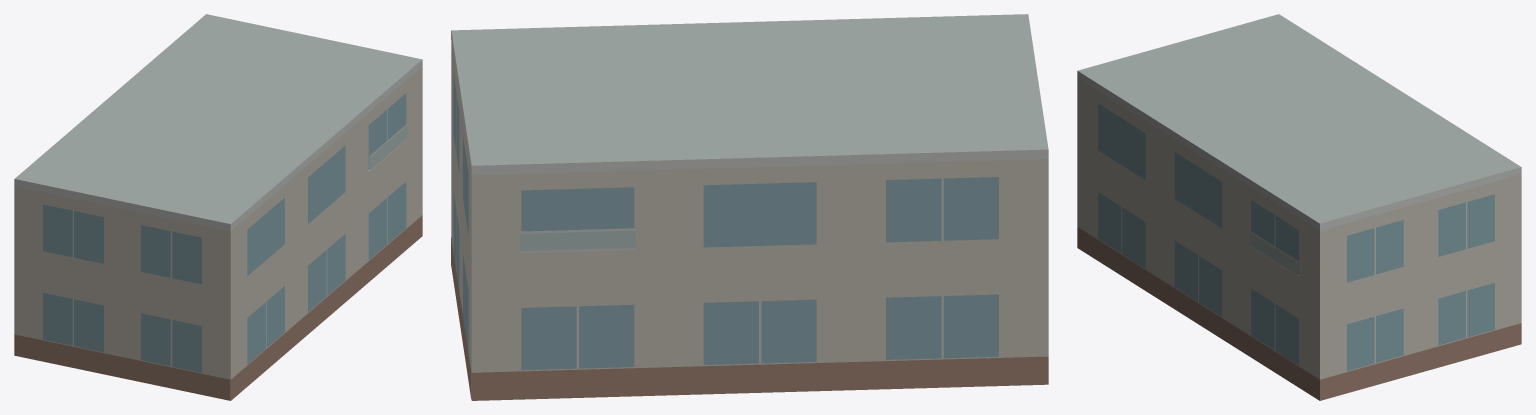
The model's file is survey-upis-32624056.glb.
3 renders of one model, left to right at view 1: azimuth 30°, elevation 25°; view 2: azimuth 150°, elevation 25°; view 3: azimuth 270°, elevation 25°, orthographic. The views are drawn at different scales.
Parts seen in each view (by area): view 1: survey-upis-32624056.tmp; view 2: survey-upis-32624056.tmp; view 3: survey-upis-32624056.tmp.
Boxes of the visible parts, x1,y1,x2,y2 form: survey-upis-32624056.tmp: (14, 14, 422, 400); survey-upis-32624056.tmp: (451, 14, 1048, 400); survey-upis-32624056.tmp: (1077, 14, 1521, 400).
Bounding box in the file's own units: 15.49 × 6.1 × 13.87.
